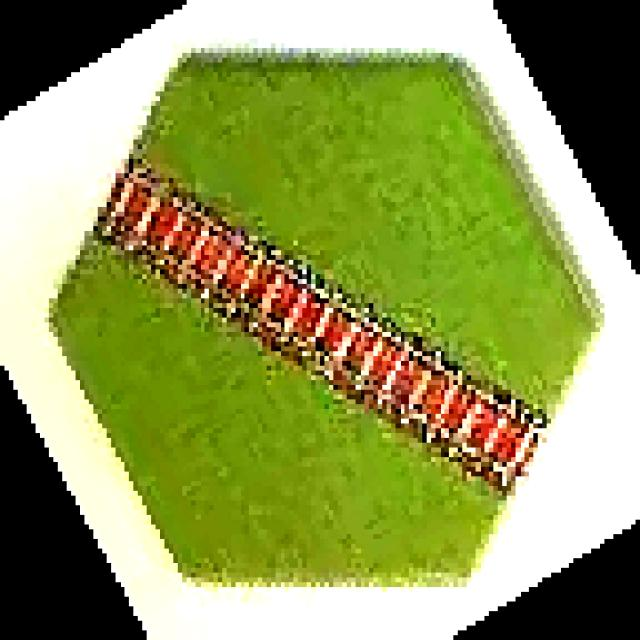3_2: (41, 52, 604, 586)
